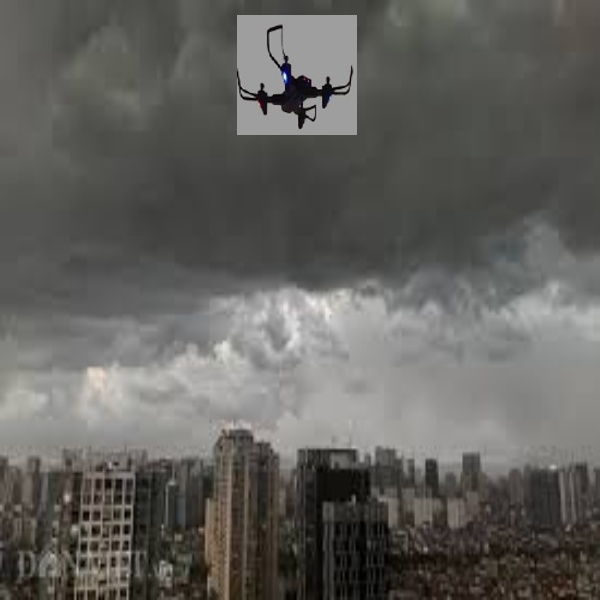drone: (238, 22, 356, 136)
